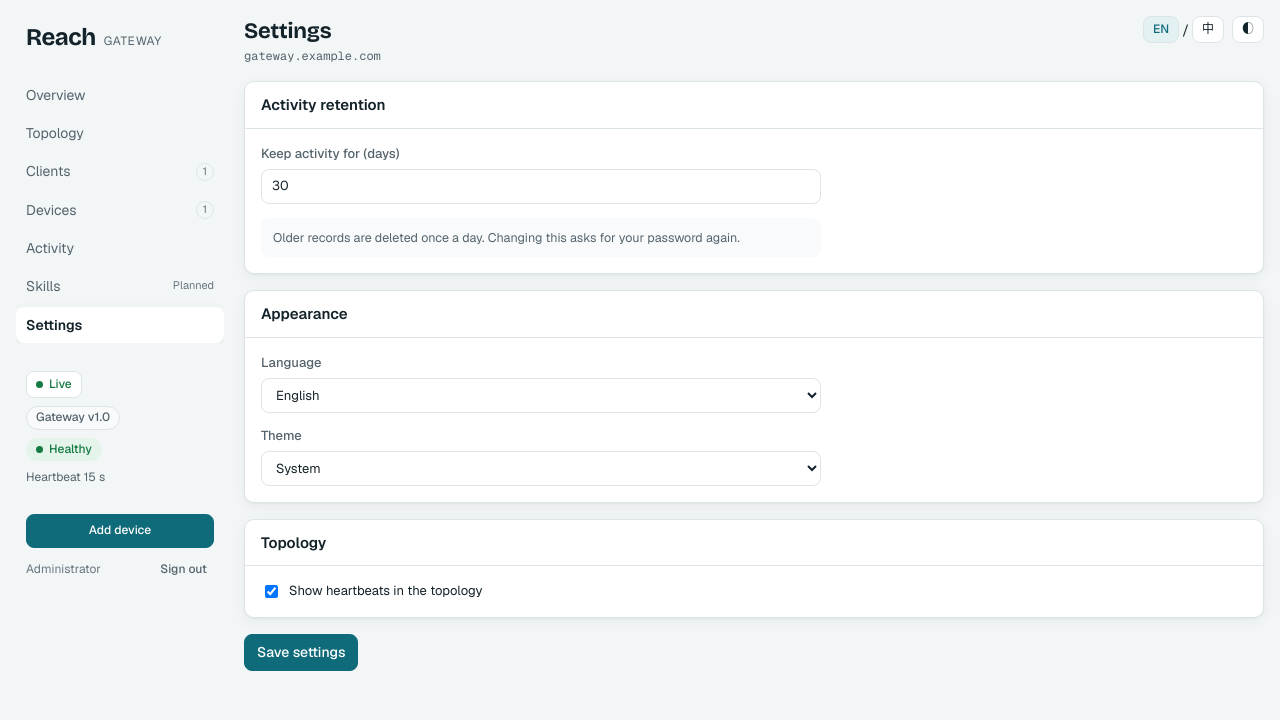
Test case: asks for reauthentication when a changed retention field requires it
Replace the text in the number field labelled "Keep activity for (days)" with "60": (541, 186) [261,169,821,204]
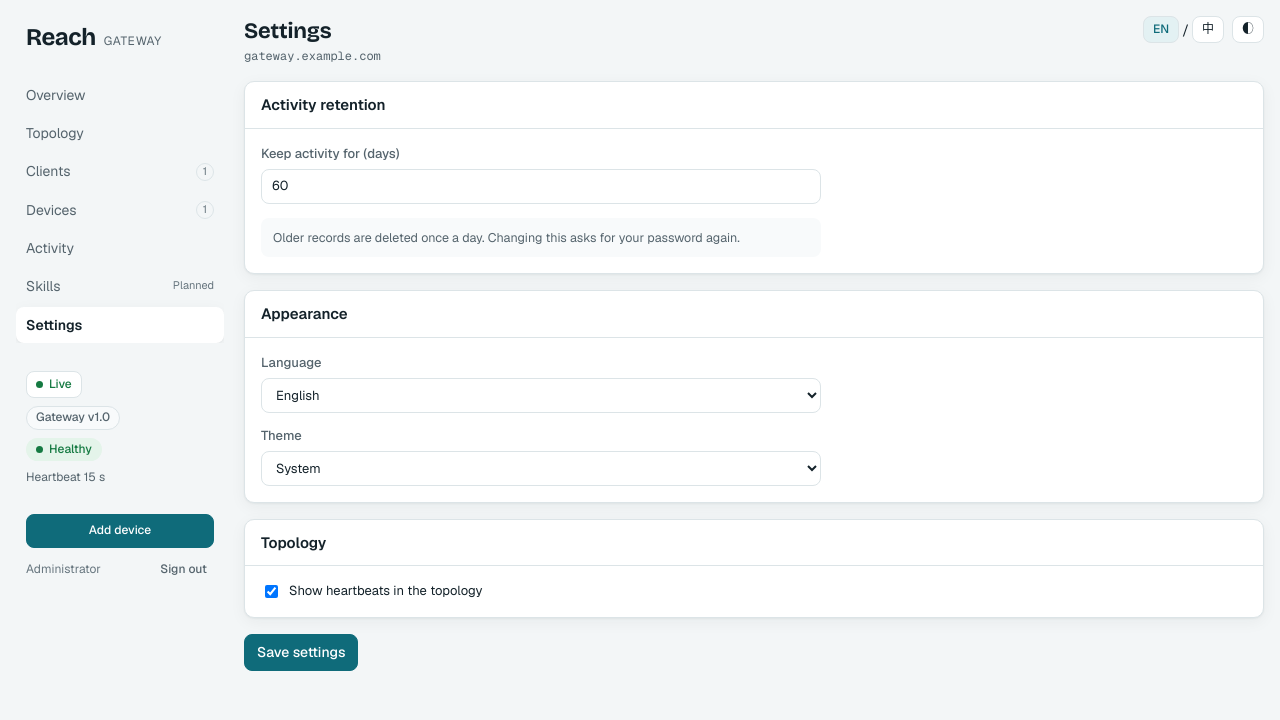
Click the button "Save settings": (301, 652) [244,634,358,671]
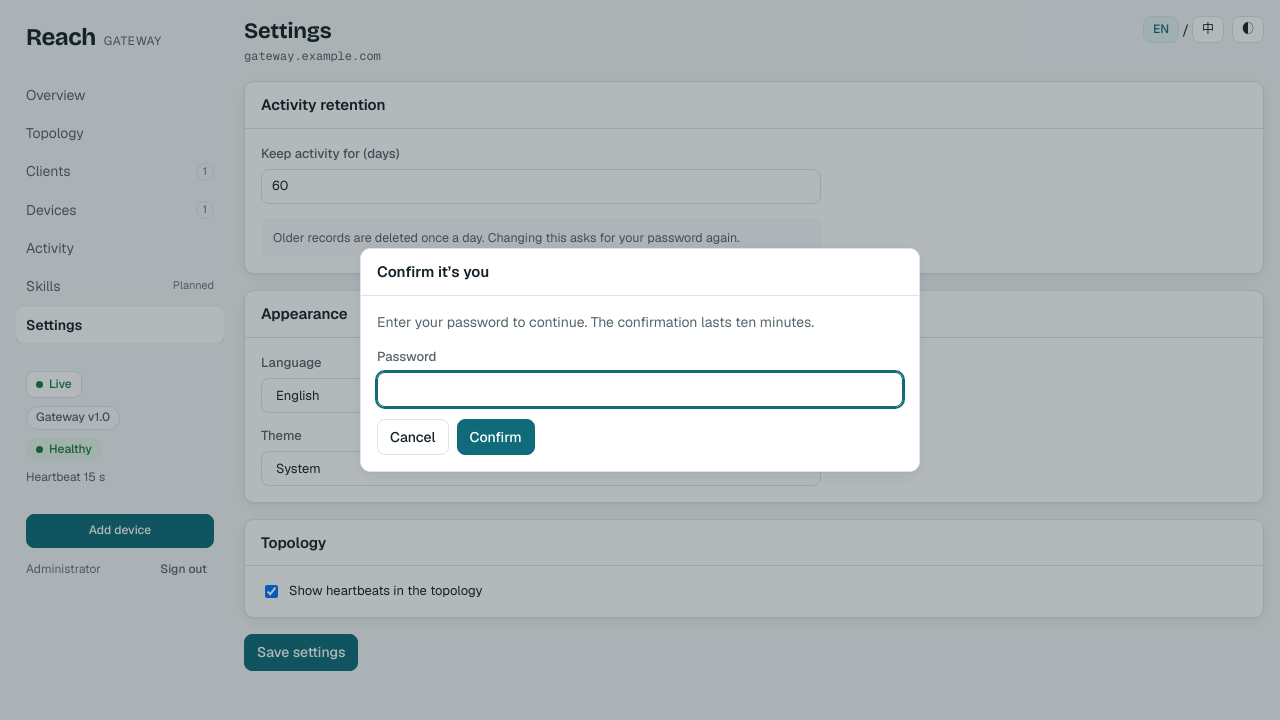
Now the dialog "Confirm it’s you" is shown, box [360,248,920,472]
